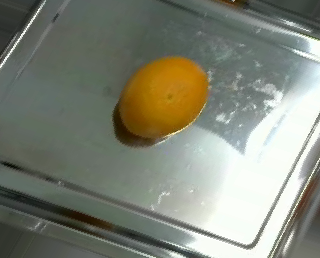Orange: (119, 56, 209, 138)
